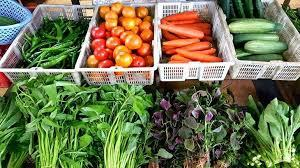Organic: (4, 1, 300, 168)
